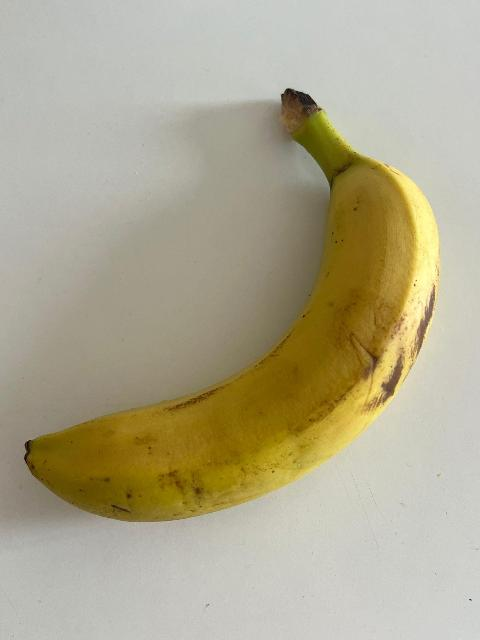Organik: (22, 84, 439, 522)
